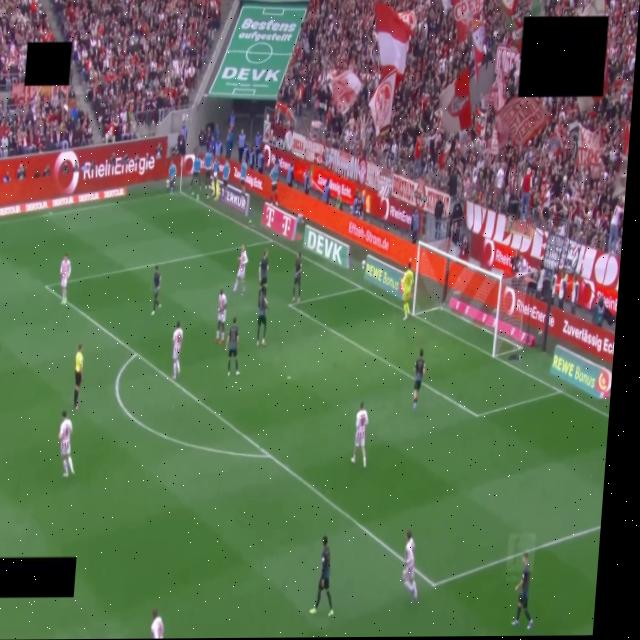player: (310, 535, 333, 616), (512, 553, 533, 629), (352, 402, 368, 467), (59, 411, 74, 477), (403, 531, 417, 601), (225, 318, 239, 375), (413, 349, 425, 410), (233, 246, 248, 294), (402, 261, 414, 319), (215, 288, 227, 343), (257, 285, 267, 346), (173, 321, 182, 379), (60, 254, 70, 304), (152, 266, 161, 315), (293, 253, 302, 302), (151, 609, 163, 638)
referee: (73, 344, 83, 409)
